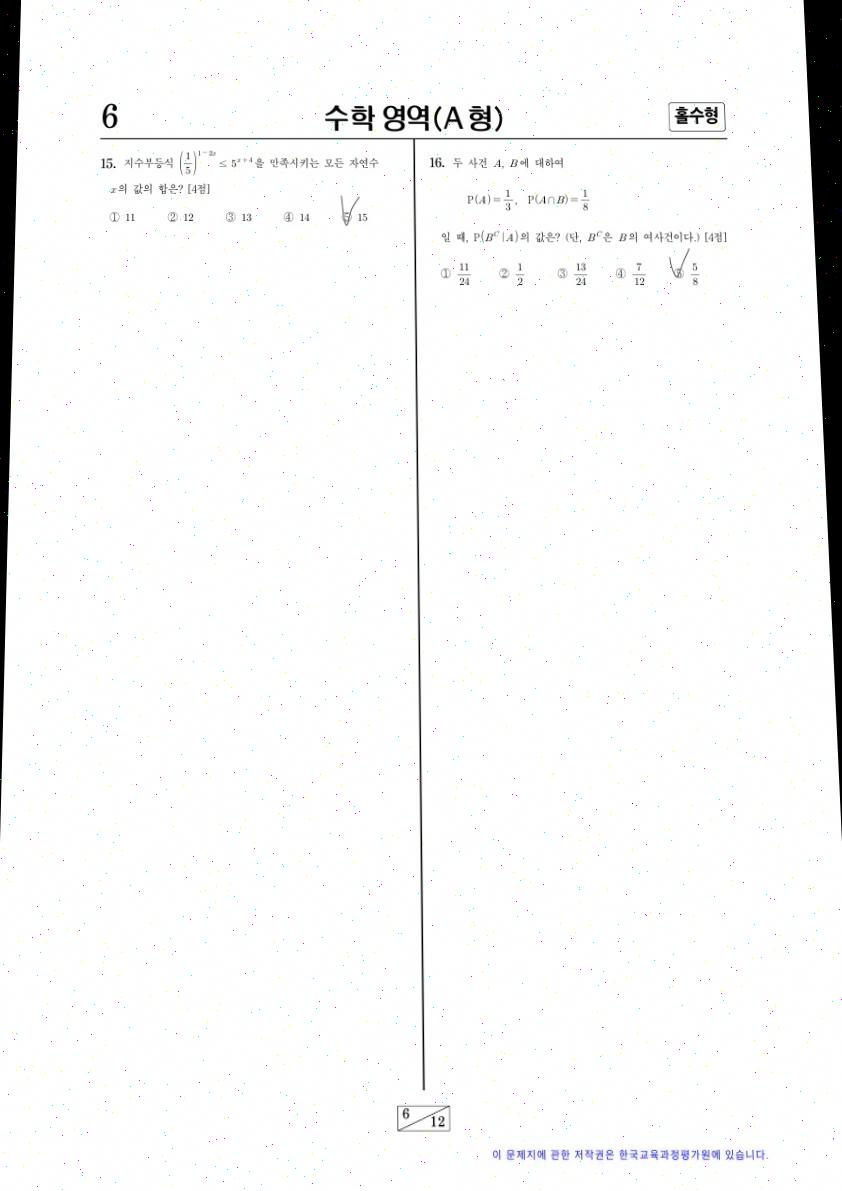question: (417, 143, 744, 305), (88, 147, 402, 243)
